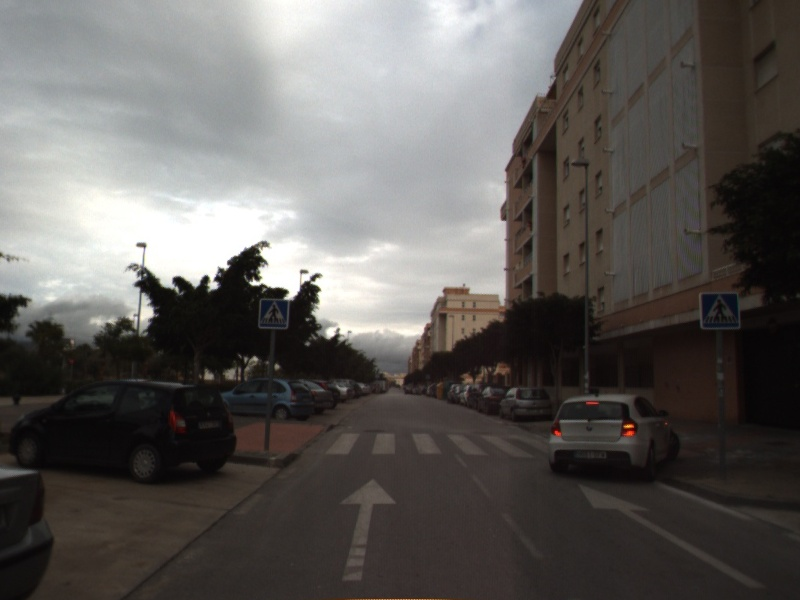STRAIGHT: (577, 482, 768, 590), (336, 476, 399, 583)
